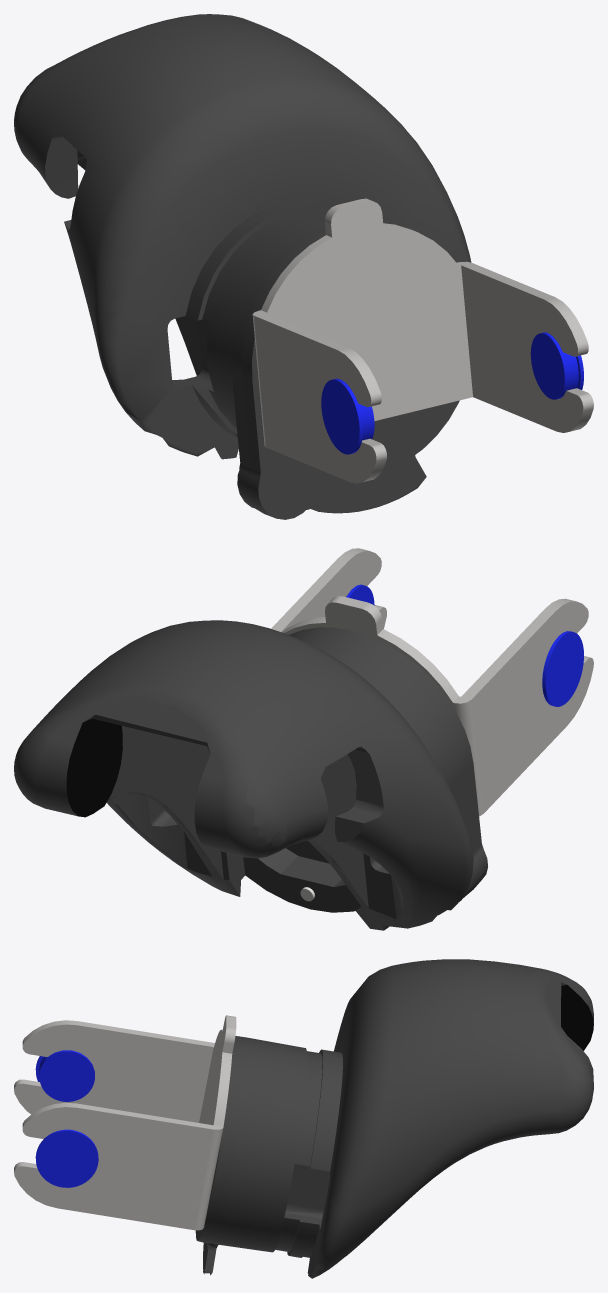
Rendered from l_shoulder_link.dae.
The picture shows the model from 3 angles, top to bottom: view 1: azimuth 30°, elevation 25°; view 2: azimuth 150°, elevation 25°; view 3: azimuth 270°, elevation 25°; orthographic projection. The views are drawn at different scales.
Visible parts, largest first — view 1: FBXASC227FBXASC130FBXASC189FBXASC227FBXASC131FBXASC170FBXASC (×5); view 2: FBXASC227FBXASC130FBXASC189FBXASC227FBXASC131FBXASC170FBXASC (×4); view 3: FBXASC227FBXASC130FBXASC189FBXASC227FBXASC131FBXASC170FBXASC (×5).
Boxes of the visible parts, <box> form: FBXASC227FBXASC130FBXASC189FBXASC227FBXASC131FBXASC170FBXASC (×5): <box>14,14,593,519</box>; FBXASC227FBXASC130FBXASC189FBXASC227FBXASC131FBXASC170FBXASC (×4): <box>14,548,593,930</box>; FBXASC227FBXASC130FBXASC189FBXASC227FBXASC131FBXASC170FBXASC (×5): <box>14,959,593,1278</box>.
Bounding box in the file's own units: 0.0865 × 0.1441 × 0.0791.
